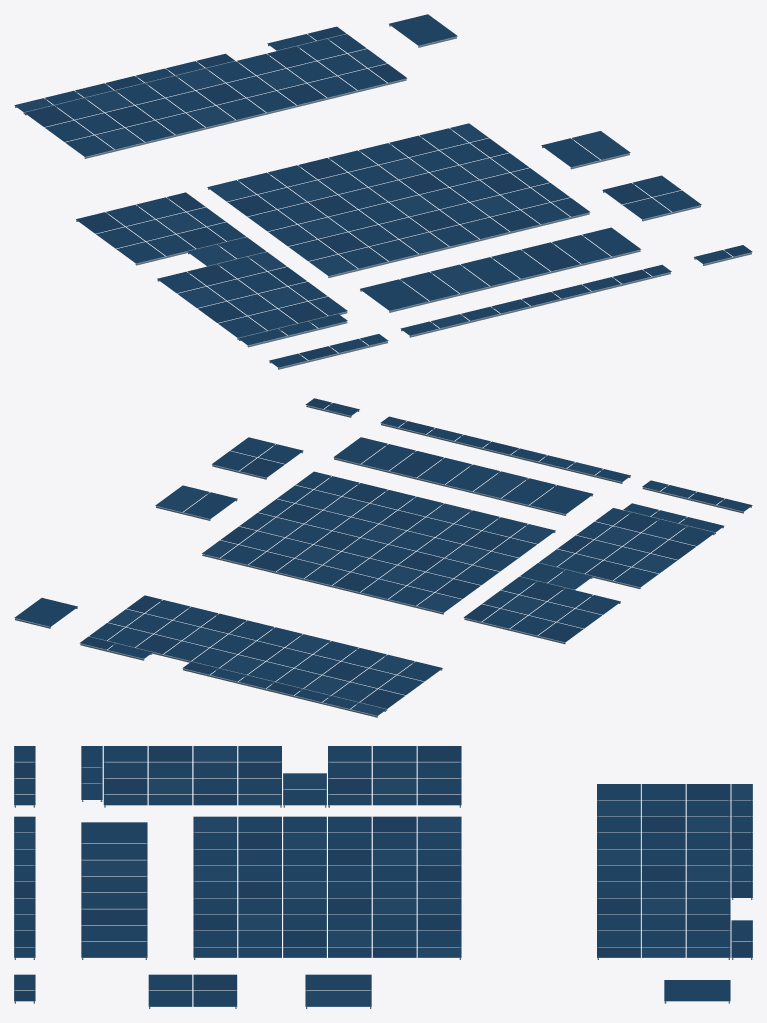
File: SM_MPRSU_SolarBank_01_1_LOD2.fbx
The picture shows the model from 3 angles, top to bottom: view 1: azimuth 30°, elevation 25°; view 2: azimuth 150°, elevation 25°; view 3: azimuth 270°, elevation 25°; orthographic projection. The views are drawn at different scales.
Parts seen in each view (by area): view 1: SM_MPRSU_SolarBank_01_1_LOD2; view 2: SM_MPRSU_SolarBank_01_1_LOD2; view 3: SM_MPRSU_SolarBank_01_1_LOD2.
Part boxes in pixels (box(x1,y1,x2,y2)): SM_MPRSU_SolarBank_01_1_LOD2: box(14, 14, 752, 369); SM_MPRSU_SolarBank_01_1_LOD2: box(14, 398, 752, 717); SM_MPRSU_SolarBank_01_1_LOD2: box(14, 746, 752, 1008).
Bounding box in the file's own units: 5368 × 6427 × 24.6.
